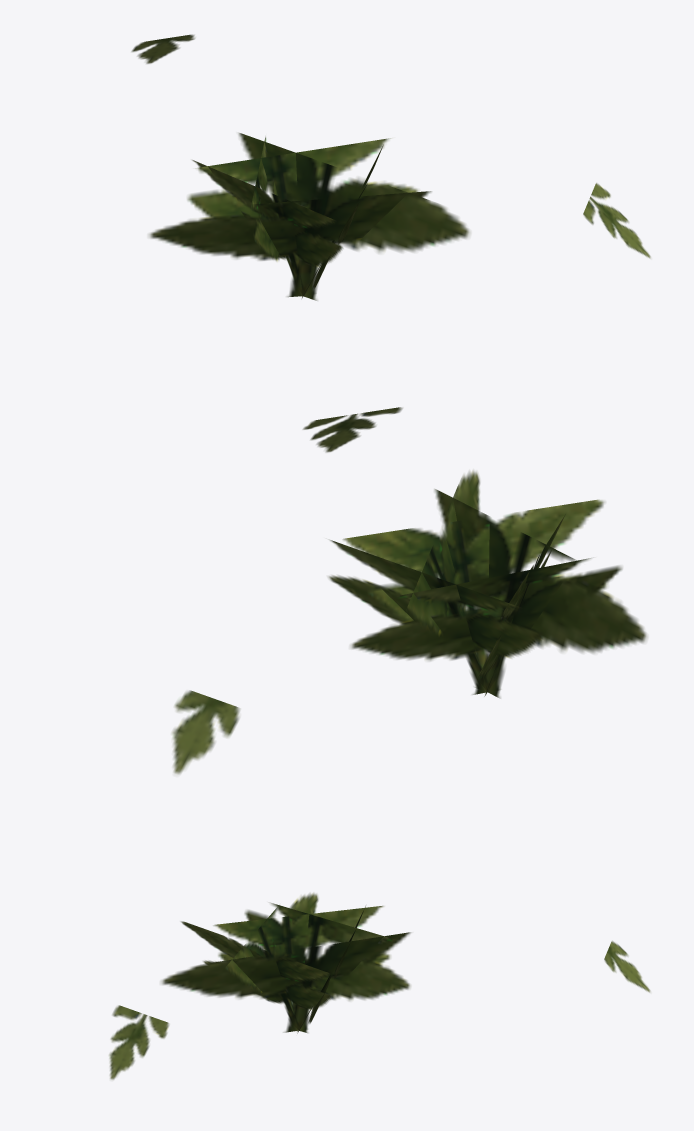
File: lp_bush_a_stump.glb
3 renders of one model, top to bottom at view 1: azimuth 30°, elevation 25°; view 2: azimuth 150°, elevation 25°; view 3: azimuth 270°, elevation 25°, orthographic. The views are drawn at different scales.
Visible parts, largest first — view 1: lp_bush_a_low; view 2: lp_bush_a_low; view 3: lp_bush_a_low.
Boxes of the visible parts, <box> form: lp_bush_a_low: <box>131,34,650,300</box>; lp_bush_a_low: <box>172,407,647,774</box>; lp_bush_a_low: <box>109,893,650,1079</box>.
Bounding box in the file's own units: 0.6443 × 0.1506 × 0.9164.
Materials: 1 (1 with a texture image).
